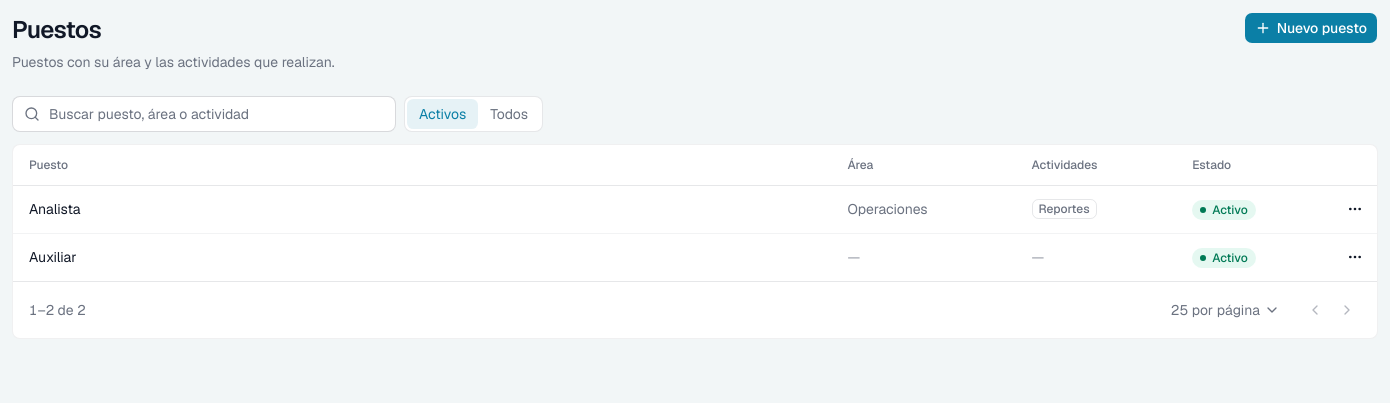
Scenario: CatalogPage › shows active rows by default and every row with «Todos»
Check: the text "Coordinador" is not shown
Check: the text "Analista" is shown, box [29,200,80,218]
What coordinates should you click on to do the following:
click the button "Todos"
I would click on:
 (509, 114)
Its box is [478,99,540,129].
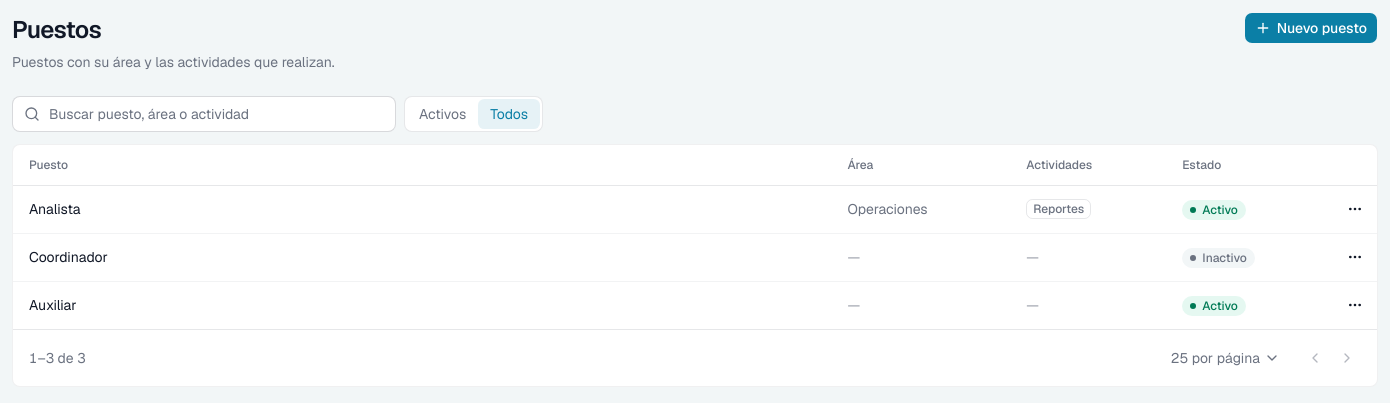
Check: the text "Coordinador" is shown, box [29,248,108,266]
Check: the text "Inactivo" is shown, box [1202,250,1247,266]
